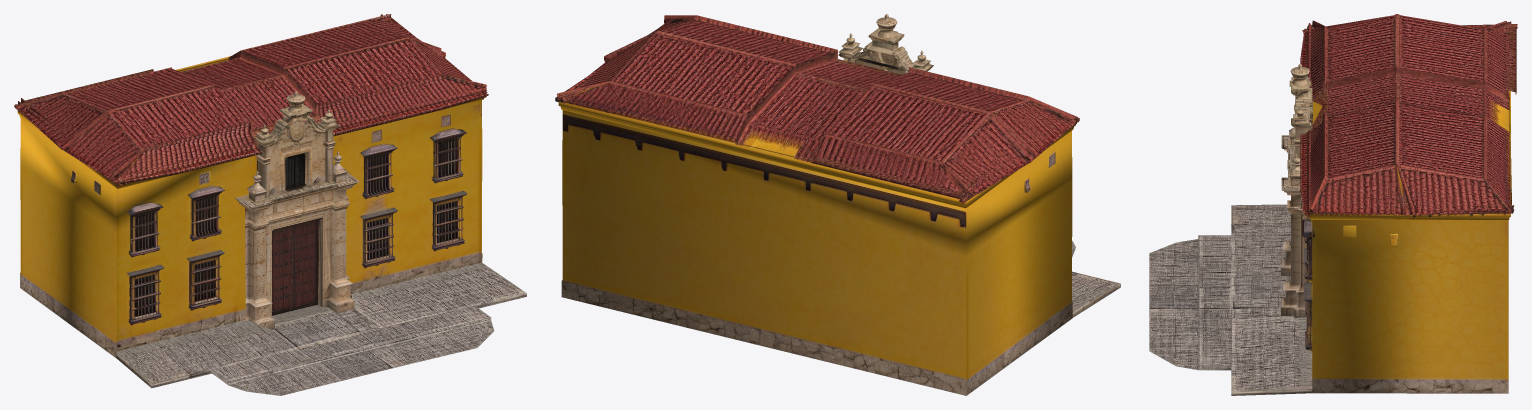
The model's file is palacio-inquisicion.glb.
The picture shows the model from 3 angles, left to right: view 1: azimuth 30°, elevation 25°; view 2: azimuth 150°, elevation 25°; view 3: azimuth 270°, elevation 25°; orthographic projection. The views are drawn at different scales.
Visible parts, largest first — view 1: tripo_node_0b8caa90-7cab-4b3a-aed6-19b584547b9f; view 2: tripo_node_0b8caa90-7cab-4b3a-aed6-19b584547b9f; view 3: tripo_node_0b8caa90-7cab-4b3a-aed6-19b584547b9f.
Boxes of the visible parts, x1,y1,x2,y2 form: tripo_node_0b8caa90-7cab-4b3a-aed6-19b584547b9f: [14, 14, 526, 395]; tripo_node_0b8caa90-7cab-4b3a-aed6-19b584547b9f: [555, 14, 1120, 395]; tripo_node_0b8caa90-7cab-4b3a-aed6-19b584547b9f: [1149, 14, 1517, 395].
Bounding box in the file's own units: 0.9995 × 0.5659 × 0.8091.
1 material, 1 textured.
